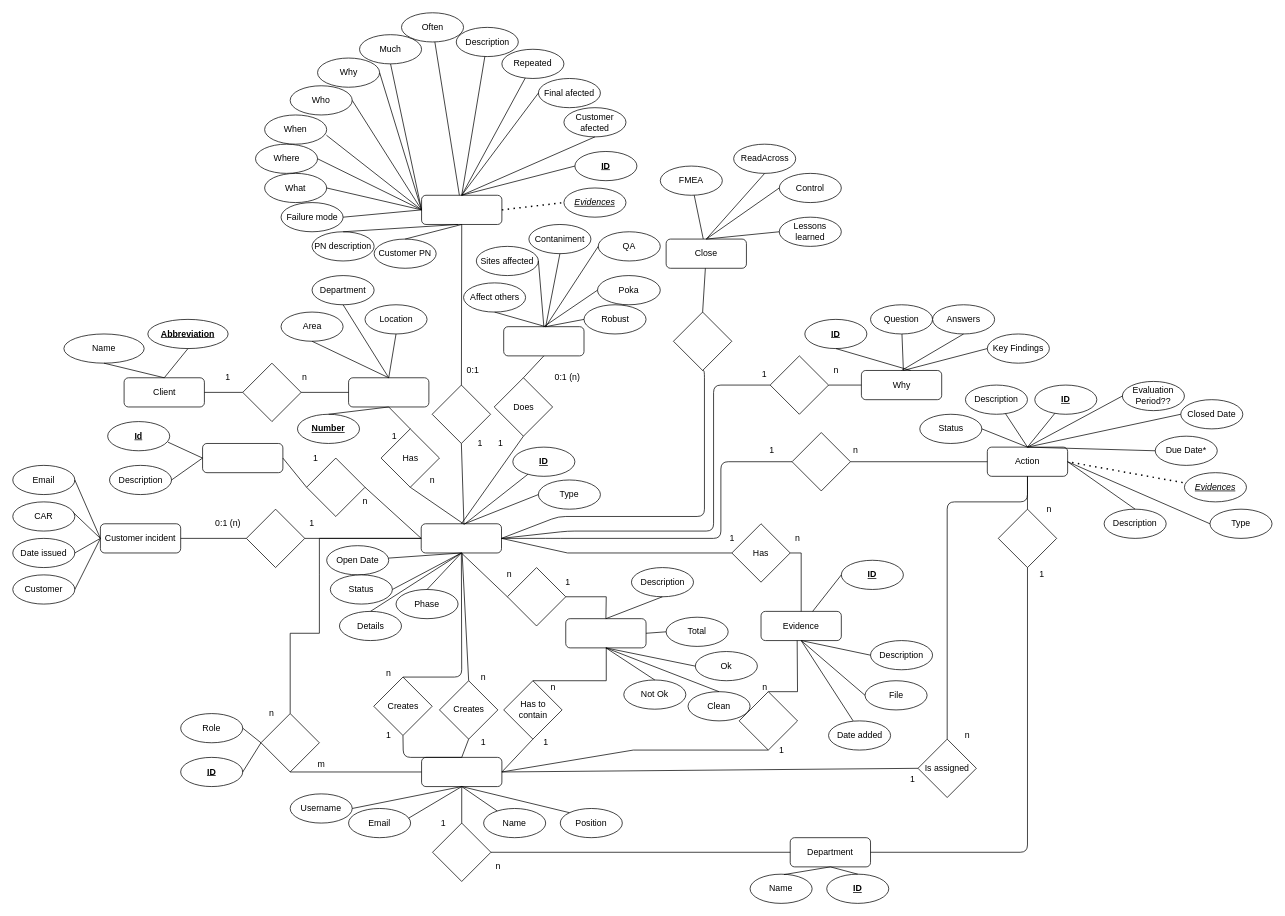
This 1285x916 diagram has some shape labels left out. The box of each missing label's shape, as (x1, y1, x2, y2) in pixels:
Belongs: (998, 508, 1057, 568)
Causes: (246, 508, 305, 568)
Closures: (673, 311, 732, 370)
Containment: (503, 326, 584, 356)
Contains: (507, 567, 566, 626)
Defect: (202, 443, 283, 473)
Gathers: (260, 713, 319, 772)
Generates: (306, 457, 365, 516)
Involves: (431, 384, 491, 443)
Issue: (420, 523, 502, 553)
Manages: (432, 822, 491, 881)
Opens: (791, 432, 850, 491)
Orders: (242, 362, 301, 422)
Part: (348, 377, 429, 407)
Problem: (421, 195, 502, 224)
Stock: (565, 618, 646, 648)
Tells: (769, 355, 829, 414)
Uploads: (738, 691, 798, 750)
User: (421, 757, 502, 787)
